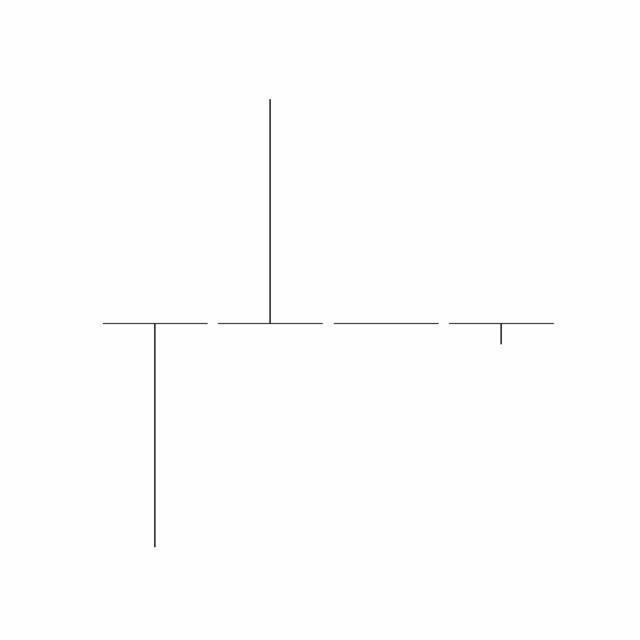Hammer: (329, 323, 445, 325)
